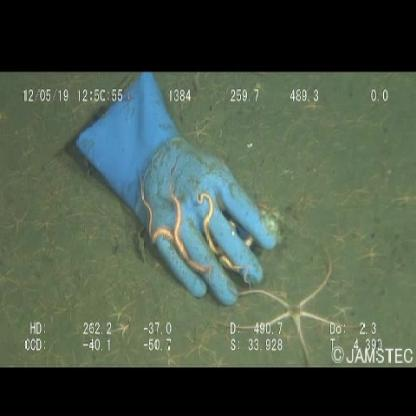Rác: (68, 72, 280, 316)
